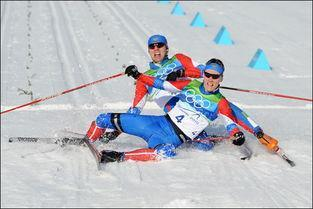Fall-Detected: (108, 29, 203, 112)
